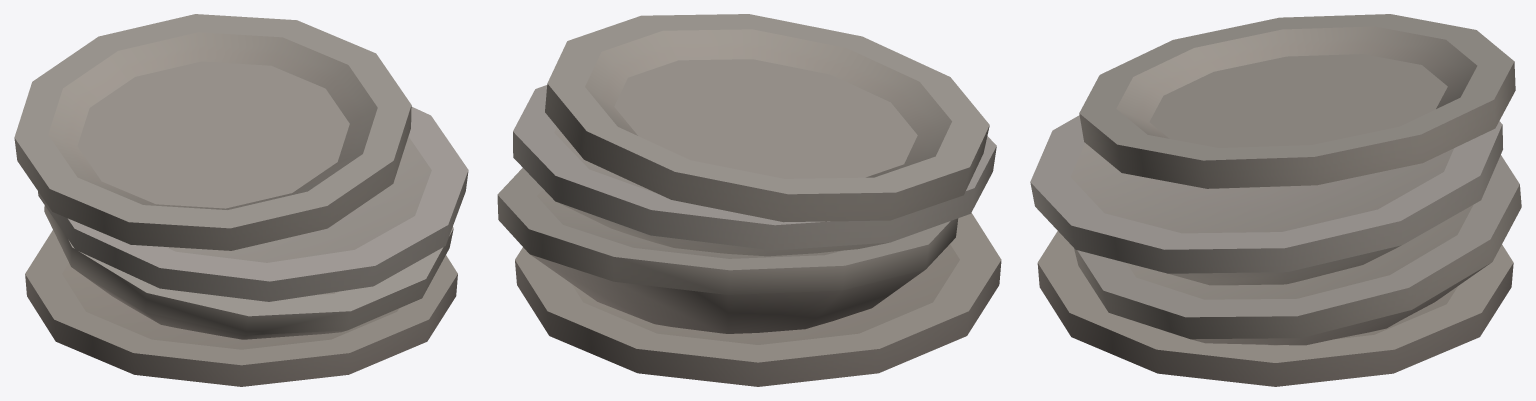
File: plate_stack.gltf
3 renders of one model, left to right at view 1: azimuth 30°, elevation 25°; view 2: azimuth 150°, elevation 25°; view 3: azimuth 270°, elevation 25°, orthographic. The views are drawn at different scales.
Parts seen in each view (by area): view 1: plate_stack; view 2: plate_stack; view 3: plate_stack.
Boxes of the visible parts, left/top/right/bottom form: plate_stack: left=14, top=14, right=468, bottom=386; plate_stack: left=497, top=14, right=1001, bottom=386; plate_stack: left=1030, top=14, right=1521, bottom=386.
Bounding box in the file's own units: 0.9971 × 0.5639 × 1.
Materials: 1 (1 with a texture image).
